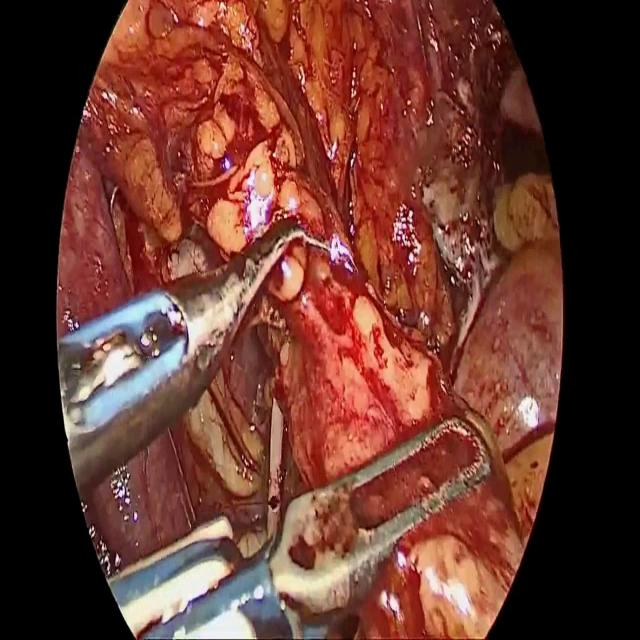surgical-area: (57, 0, 563, 639), (352, 427, 477, 526)
surgical-tool: (107, 412, 492, 639), (57, 216, 328, 496)
